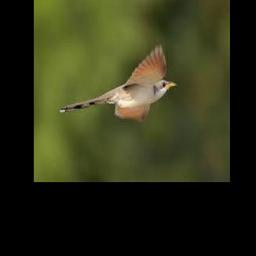Cuckoo: (60, 45, 177, 118)
